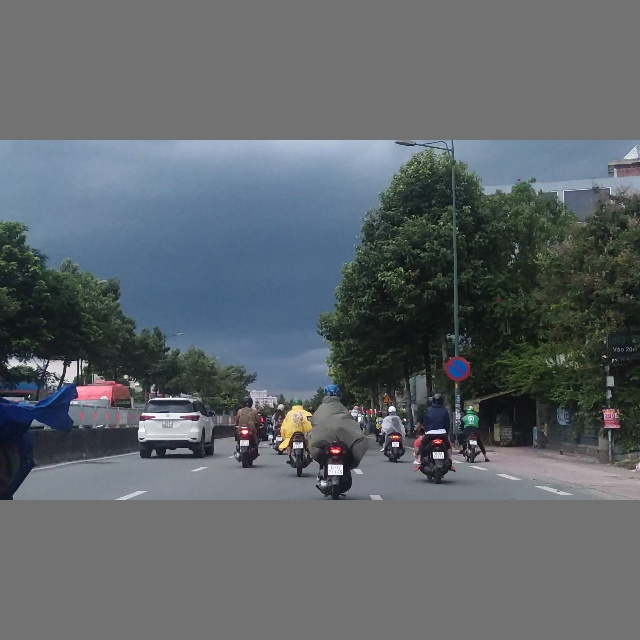P.131a: (445, 357, 470, 382)
W.201a: (383, 394, 392, 403)
